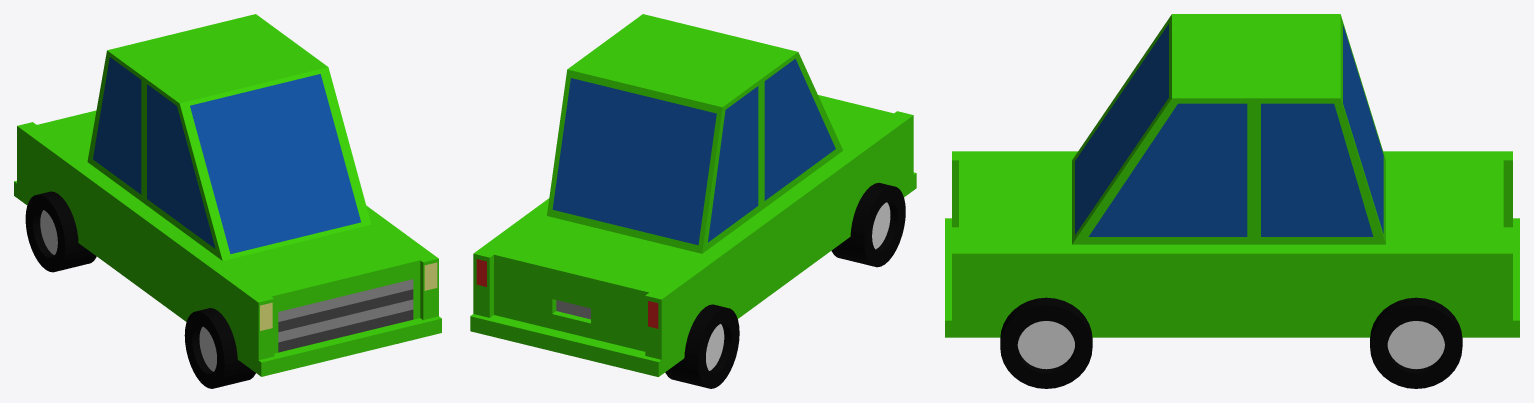
The model's file is car_one_piece.dae.
3 renders of one model, left to right at view 1: azimuth 30°, elevation 25°; view 2: azimuth 150°, elevation 25°; view 3: azimuth 270°, elevation 25°, orthographic. The views are drawn at different scales.
Visible parts, largest first — view 1: Tire; view 2: Tire; view 3: Tire.
Boxes of the visible parts, box(x1,y1,x2,y2) form: Tire: box(14, 14, 441, 388); Tire: box(470, 14, 916, 388); Tire: box(945, 14, 1519, 388).
Bounding box in the file's own units: 6 × 12.43 × 6.54.
